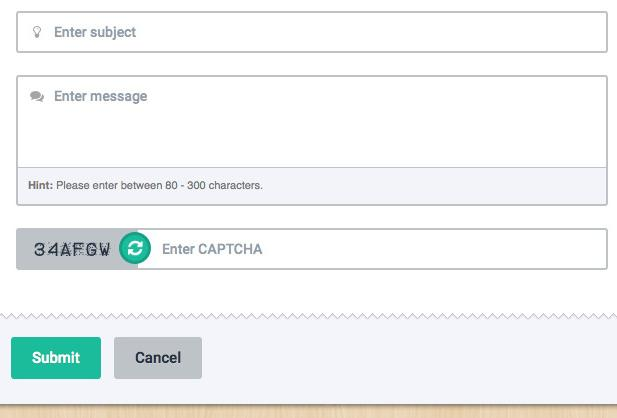button: (9, 334, 103, 383), (110, 333, 205, 380)
field: (12, 73, 611, 206), (13, 10, 611, 57), (132, 226, 610, 271)
